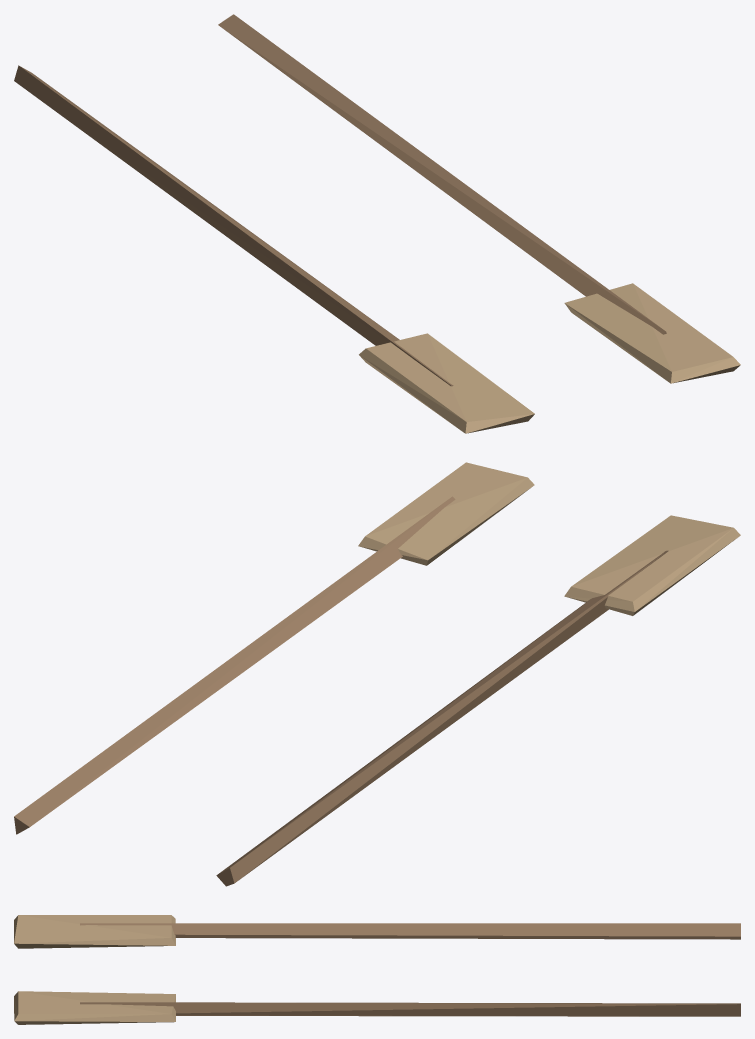
Rendered from boats.oars.lod1.glb.
3 renders of one model, top to bottom at view 1: azimuth 30°, elevation 25°; view 2: azimuth 150°, elevation 25°; view 3: azimuth 270°, elevation 25°, orthographic. The views are drawn at different scales.
Parts seen in each view (by area): view 1: Shaft.001, Shaft, Blade, Blade.001; view 2: Shaft.001, Shaft, Blade, Blade.001; view 3: Shaft, Shaft.001, Blade, Blade.001.
Boxes of the visible parts, bbox=[...] form: Shaft.001: bbox=[218, 14, 666, 334]; Shaft: bbox=[14, 65, 453, 386]; Blade: bbox=[359, 333, 534, 433]; Blade.001: bbox=[564, 283, 740, 383]; Shaft.001: bbox=[14, 496, 455, 834]; Shaft: bbox=[216, 550, 668, 886]; Blade: bbox=[564, 515, 740, 615]; Blade.001: bbox=[358, 462, 534, 565]; Shaft: bbox=[80, 923, 740, 939]; Shaft.001: bbox=[80, 1002, 740, 1016]; Blade: bbox=[14, 915, 175, 948]; Blade.001: bbox=[14, 991, 175, 1024].
Size of the model in its own units: 0.8072 by 0.0547 by 2.42.
